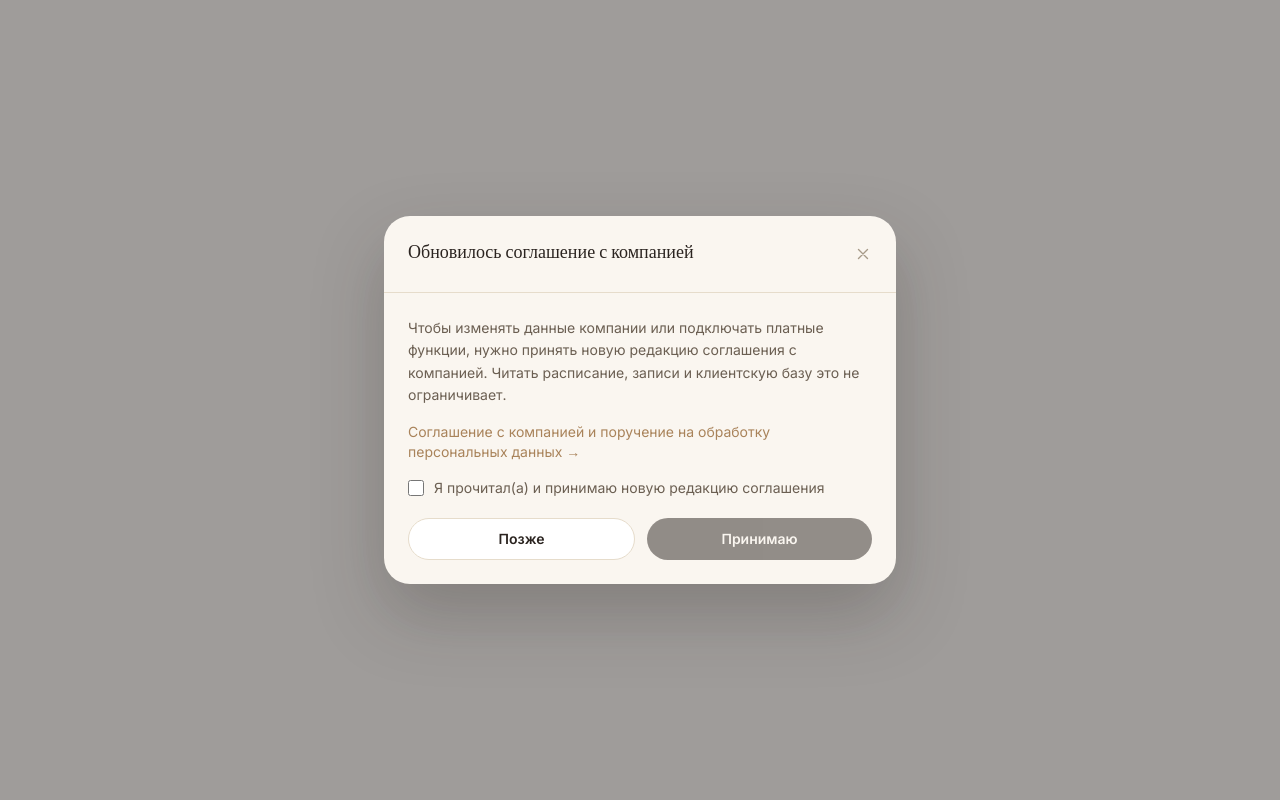
it: OwnerTermsGateModal › the accept button stays disabled until the checkbox is ticked
Check: the button "Принимаю" is disabled, box [647,518,872,560]
Click the checkbox: (416,488) [408,480,424,496]
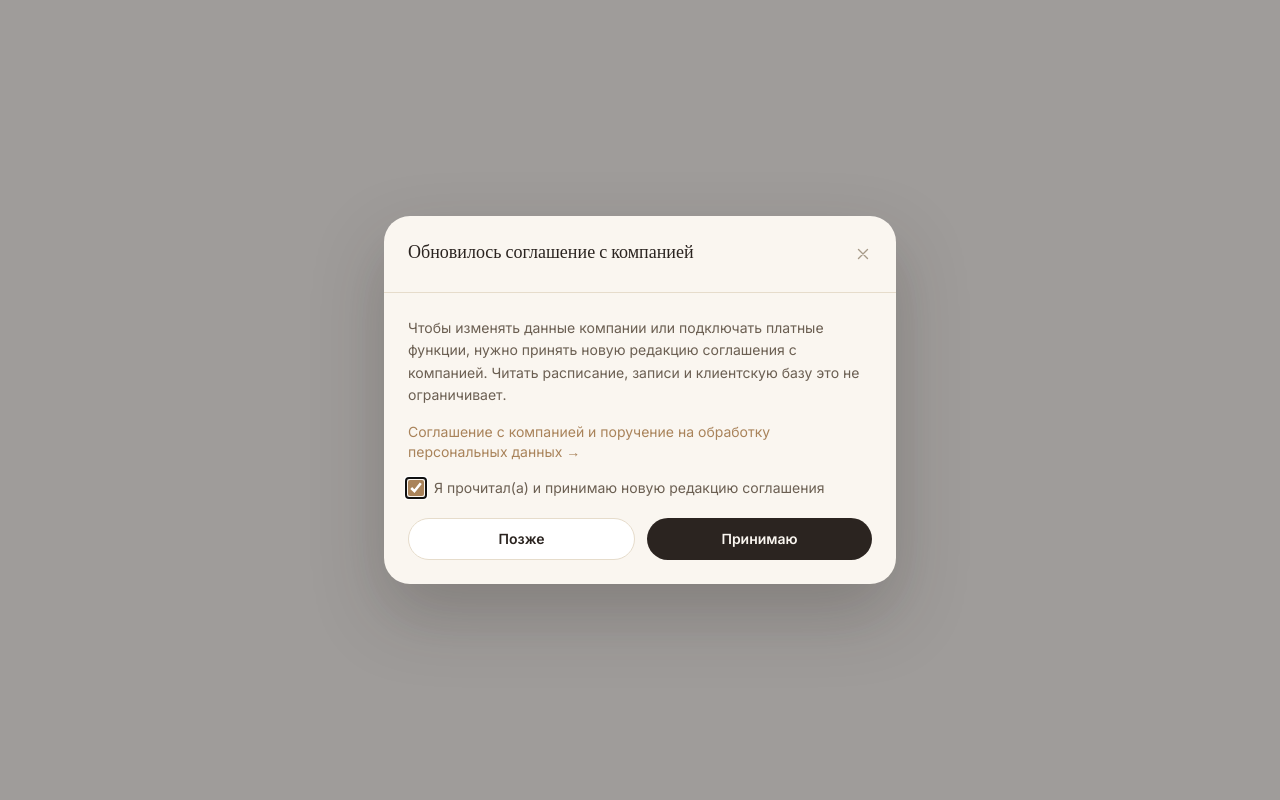
Check: the button "Принимаю" is enabled, box [647,518,872,560]
